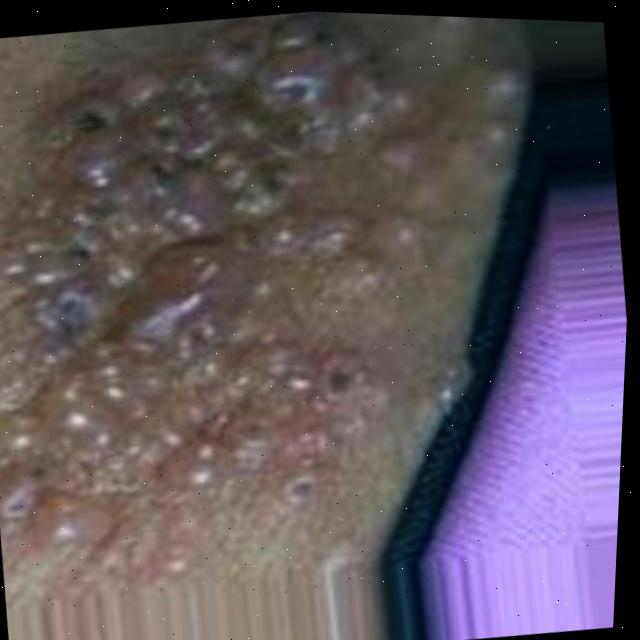Shingles: (0, 0, 492, 589)
